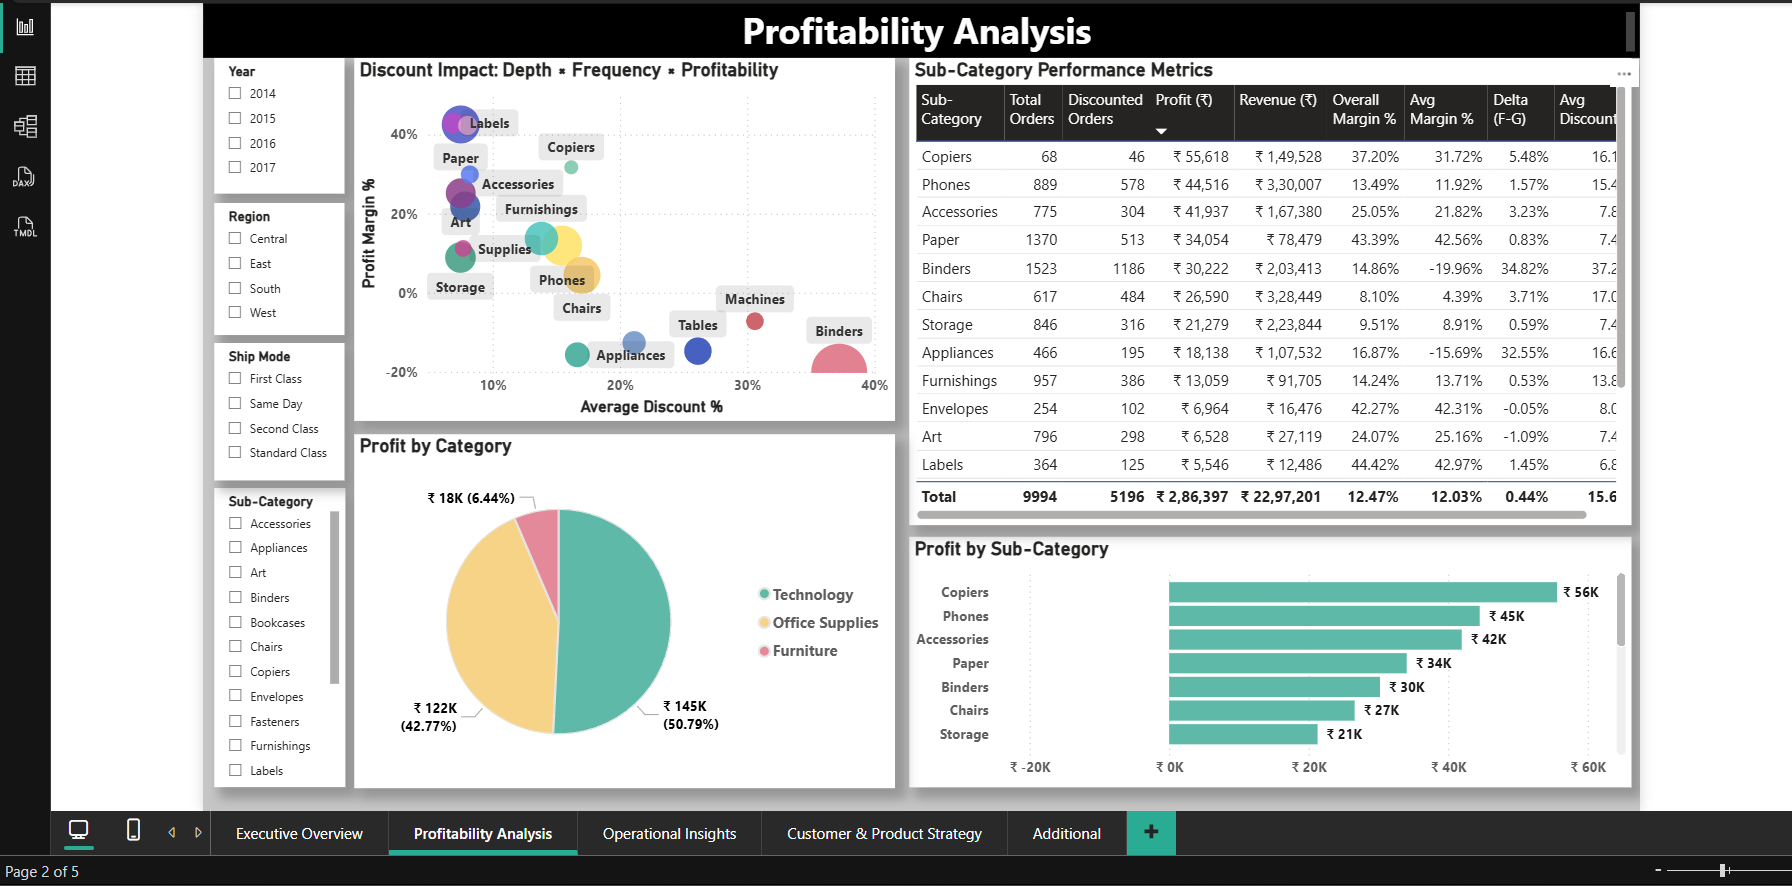

The page's visual inventory and layout, read from the dashboard file:
{"tool":"powerbi","page":{"name":"Profitability Analysis","canvas":[1280,720],"ordinal":1},"visuals":[{"type":"slicer","fields":{"Values":["Superstore_Sales_Cleaned.Order Year"]},"box":[9.9,49.4,116,121],"z":0},{"type":"slicer","fields":{"Values":["Superstore_Sales_Cleaned.Sub-Category"]},"box":[9.8,431.9,116.6,266.3],"z":1000},{"type":"slicer","fields":{"Values":["Superstore_Sales_Cleaned.Region"]},"box":[9.9,177.8,116,117.3],"z":2000},{"type":"slicer","fields":{"Values":["Superstore_Sales_Cleaned.Ship Mode"]},"box":[9.9,302.5,116,122.2],"z":3000},{"type":"scatterChart","title":"Discount Impact: Depth × Frequency × Profitability","fields":{"X":["Avg(Superstore_Sales_Cleaned.Discount)"],"Y":["Avg(Superstore_Sales_Cleaned.Profit Margin %)"],"Series":["Superstore_Sales_Cleaned.Sub-Category"],"Size":["Sum(Superstore_Sales_Cleaned.Is Discounted)"]},"box":[134.6,49.4,481.5,323.5],"z":4000},{"type":"barChart","title":"Profit by Sub-Category","fields":{"Category":["Superstore_Sales_Cleaned.Sub-Category"],"Y":["Sum(Superstore_Sales_Cleaned.Profit)"]},"box":[628.4,475.3,643.2,223.5],"z":5000},{"type":"tableEx","title":"Sub-Category Performance Metrics","fields":{"Values":["Superstore_Sales_Cleaned.Sub-Category","Superstore_Sales_Cleaned.Order ID","Sum(Superstore_Sales_Cleaned.Is Discounted)","Sum(Superstore_Sales_Cleaned.Profit)","Sum(Superstore_Sales_Cleaned.Sales)","Superstore_Sales_Cleaned.Overall Margin %","Avg(Superstore_Sales_Cleaned.Profit Margin %)","select","Avg(Superstore_Sales_Cleaned.Discount)"]},"box":[628.4,49.4,643.2,416.1],"z":6000},{"type":"pieChart","title":"Profit by Category","fields":{"Y":["Sum(Superstore_Sales_Cleaned.Profit)"],"Category":["Superstore_Sales_Cleaned.Category"]},"box":[134.6,384,481.5,314.8],"z":7000},{"type":"textbox","box":[0,0,1280,48.8],"z":8000}]}

Visuals, with their boxes on the page's 1280x720 design canvas (x1, y1, x2, y2). These are canvas units, not pixel positions in the 1792x886 screenshot, which may show the page scaled, cropped or inside an application window:
slicer - Superstore_Sales_Cleaned.Order Year: Rect(10, 49, 126, 170)
slicer - Superstore_Sales_Cleaned.Sub-Category: Rect(10, 432, 126, 698)
slicer - Superstore_Sales_Cleaned.Region: Rect(10, 178, 126, 295)
slicer - Superstore_Sales_Cleaned.Ship Mode: Rect(10, 302, 126, 425)
"Discount Impact: Depth × Frequency × Profitability" scatterChart: Rect(135, 49, 616, 373)
"Profit by Sub-Category" barChart: Rect(628, 475, 1272, 699)
"Sub-Category Performance Metrics" tableEx: Rect(628, 49, 1272, 466)
"Profit by Category" pieChart: Rect(135, 384, 616, 699)
textbox: Rect(0, 0, 1280, 49)
